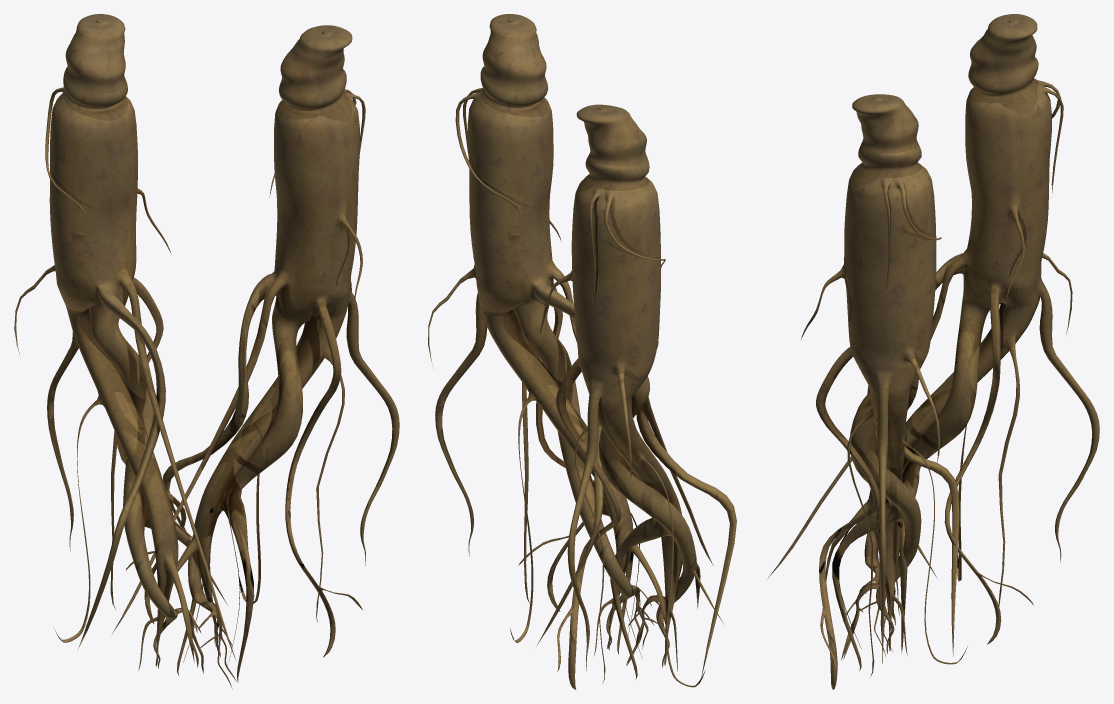
The model's file is Ginseng.fbx.
The picture shows the model from 3 angles, left to right: view 1: azimuth 30°, elevation 25°; view 2: azimuth 150°, elevation 25°; view 3: azimuth 270°, elevation 25°; orthographic projection.
Parts seen in each view (by area): view 1: sam_2; view 2: sam_2; view 3: sam_2.
Boxes of the visible parts, <box> form: sam_2: <box>14,14,399,688</box>; sam_2: <box>428,14,736,689</box>; sam_2: <box>766,14,1099,689</box>.
Size of the model in its own units: 787 by 1511 by 736.
